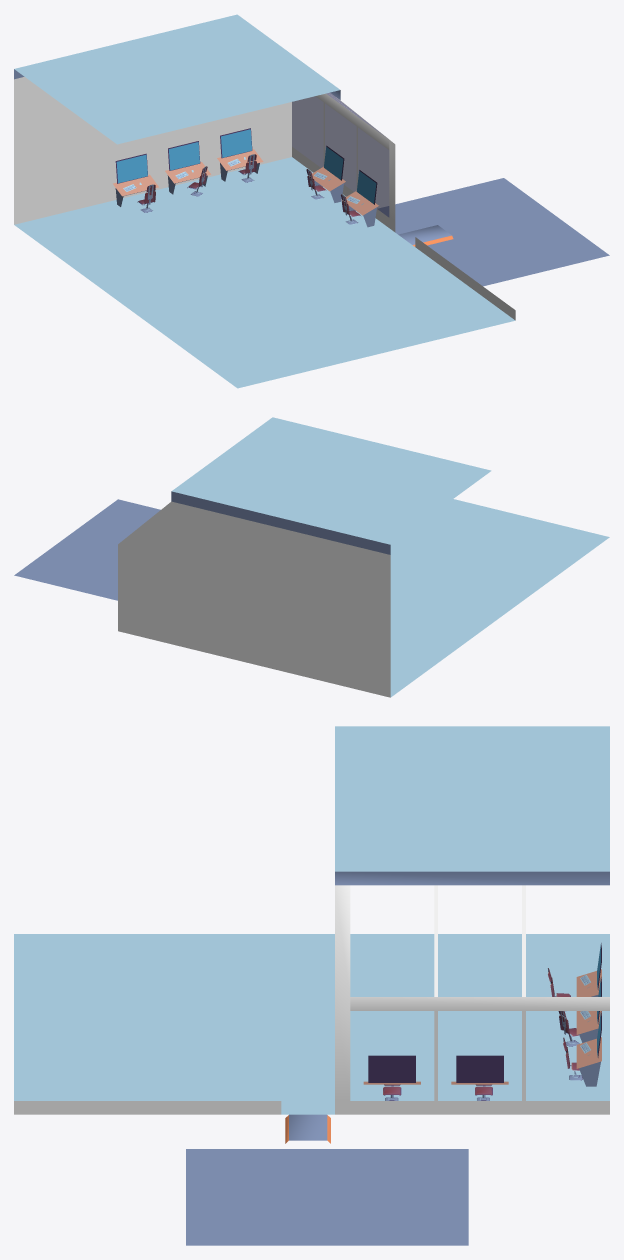
File: space_station.gltf
The picture shows the model from 3 angles, top to bottom: view 1: azimuth 30°, elevation 25°; view 2: azimuth 150°, elevation 25°; view 3: azimuth 270°, elevation 25°; orthographic projection. The views are drawn at different scales.
Parts seen in each view (by area): view 1: space_station, computer (×5); view 2: space_station; view 3: space_station, computer (×4).
Boxes of the visible parts, bbox=[...] form: space_station: bbox=[14, 14, 609, 388]; computer (×5): bbox=[113, 128, 378, 227]; space_station: bbox=[14, 417, 609, 697]; space_station: bbox=[14, 726, 609, 1245]; computer (×4): bbox=[363, 977, 601, 1086].
Bounding box in the file's own units: 22 × 8.5 × 19.5.
Materials: 3 (3 with a texture image).
